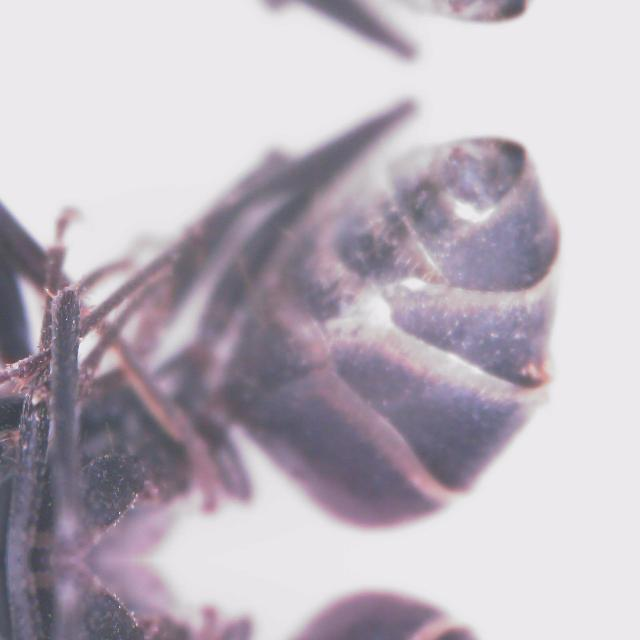Camponotus: (0, 89, 622, 559)
